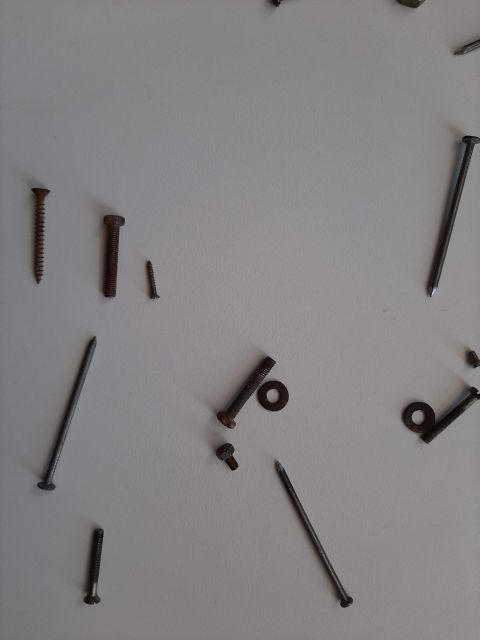gwozdz: (5, 325, 125, 505), (265, 445, 355, 625), (415, 125, 475, 305)
podkladka: (385, 385, 445, 445), (245, 355, 295, 415)
sruba: (395, 365, 475, 455), (65, 505, 125, 615), (205, 335, 275, 425), (75, 205, 125, 305), (185, 425, 245, 475)
